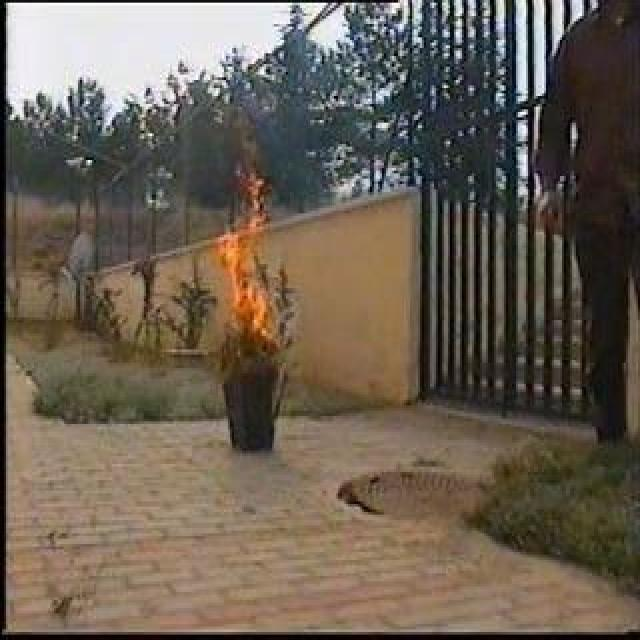fire: (218, 187, 270, 357)
